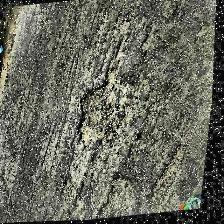pothole: (68, 59, 132, 155)
